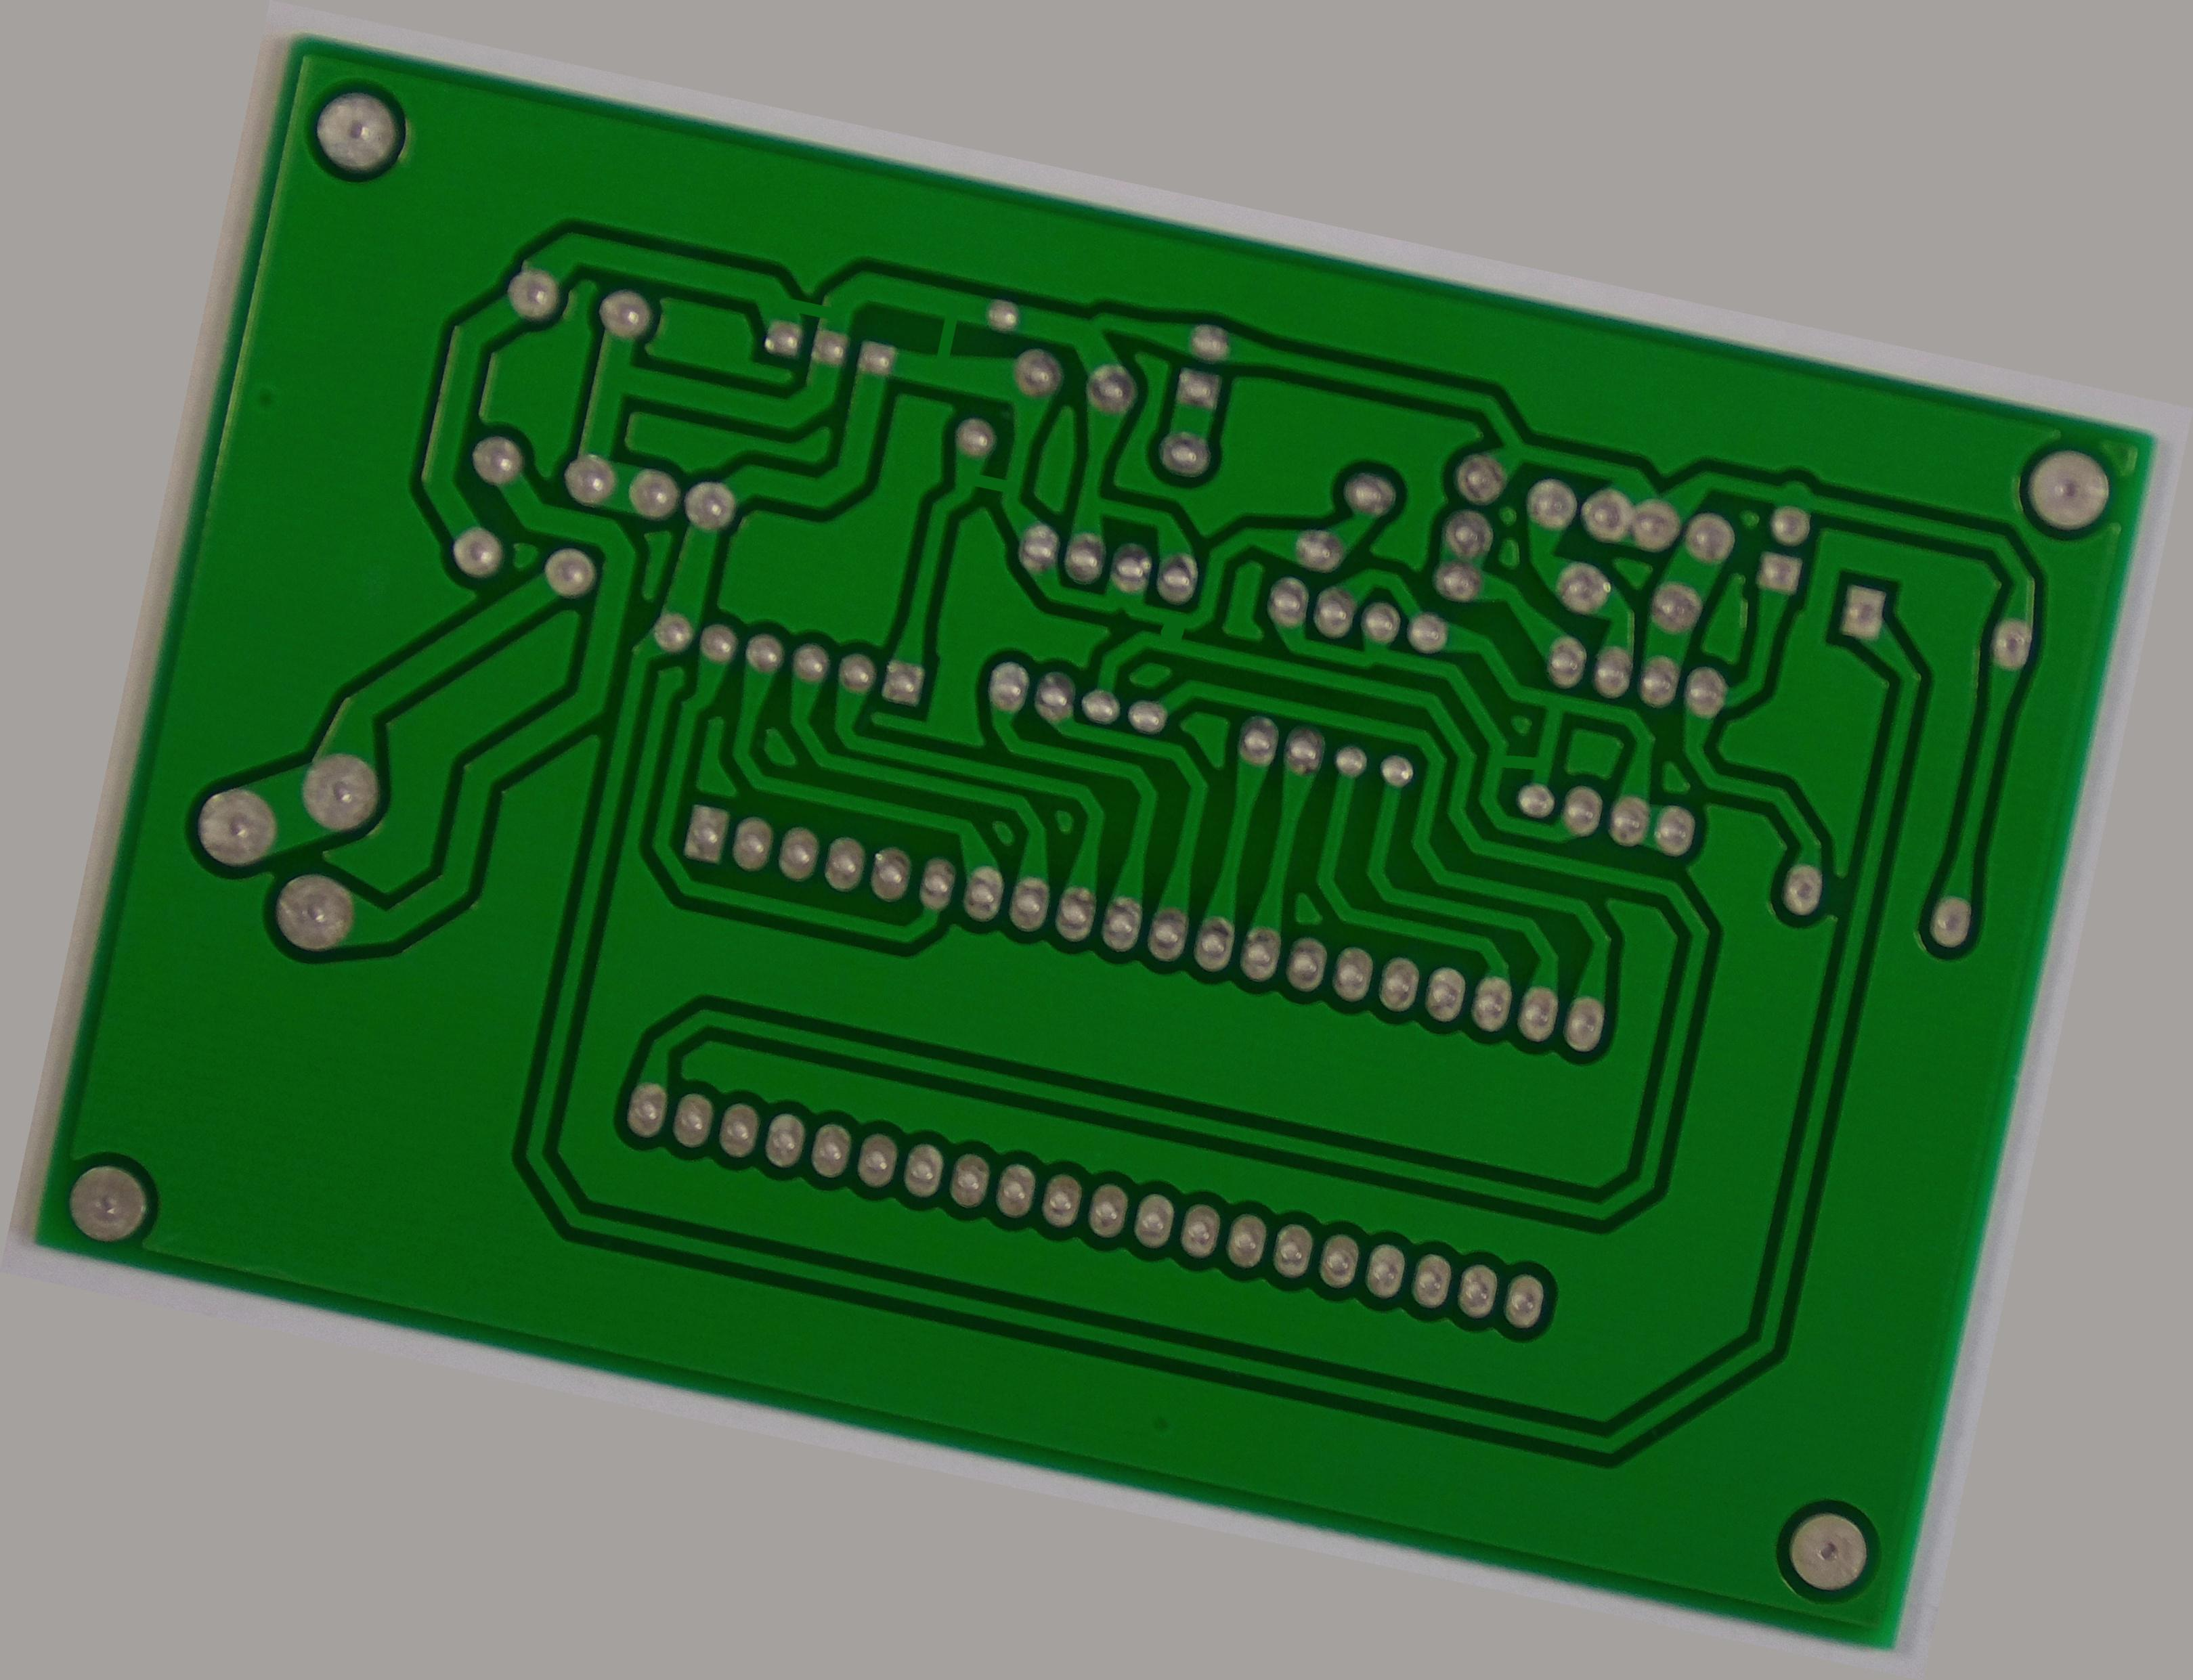short: (946, 432, 1030, 524), (762, 272, 852, 355), (1477, 727, 1561, 805), (905, 302, 984, 376), (1129, 595, 1207, 667)
